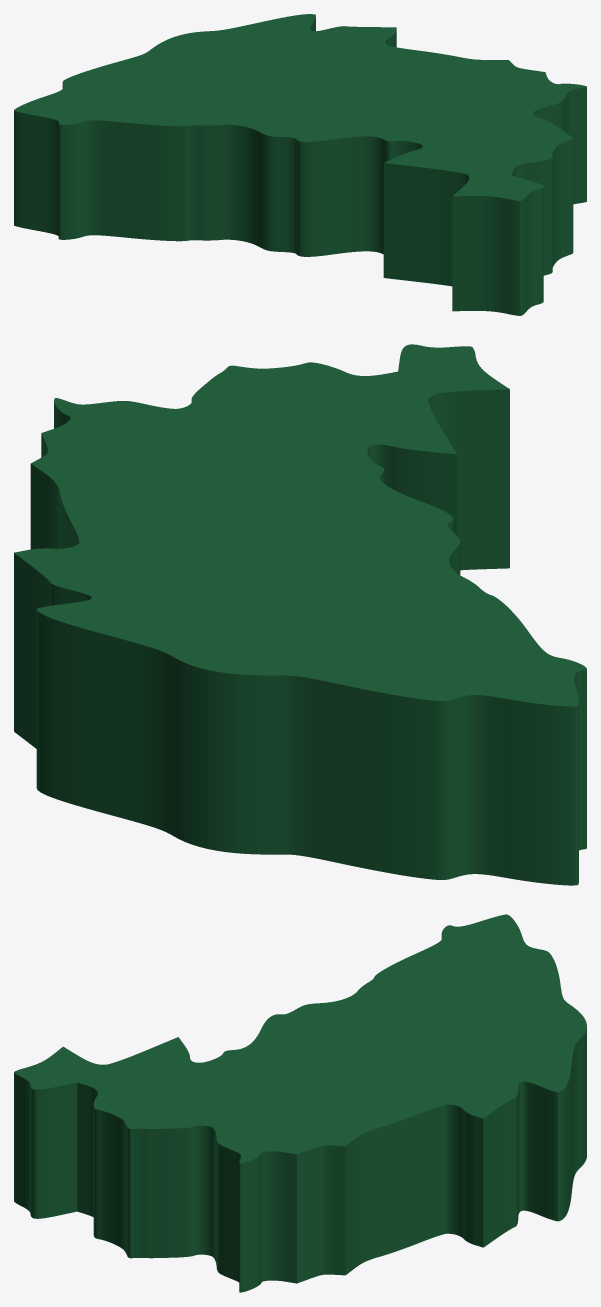
3 views of the same model, one above another, from view 1: azimuth 30°, elevation 25°; view 2: azimuth 150°, elevation 25°; view 3: azimuth 270°, elevation 25° (orthographic). The views are drawn at different scales.
Visible parts, largest first — view 1: Curve.037_path4256; view 2: Curve.037_path4256; view 3: Curve.037_path4256.
Part boxes in pixels (x1,y1,x2,y2): Curve.037_path4256: (14, 14, 586, 315); Curve.037_path4256: (14, 344, 586, 885); Curve.037_path4256: (14, 914, 586, 1292).
Bounding box in the file's own units: 0.4136 × 0.1 × 0.4021.
